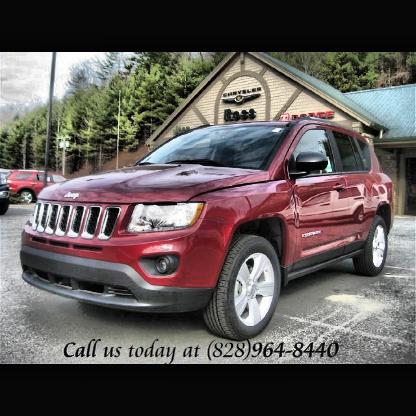Jeep Compass SUV 2012: (21, 120, 396, 343)
